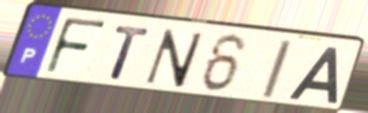6: (200, 33, 248, 94)
A: (285, 45, 339, 105)
F: (42, 15, 110, 78)
I: (259, 38, 295, 100)
N: (142, 27, 207, 89)
T: (108, 24, 154, 82)
